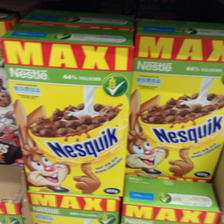cereal: (1, 23, 136, 194), (126, 23, 224, 182)
